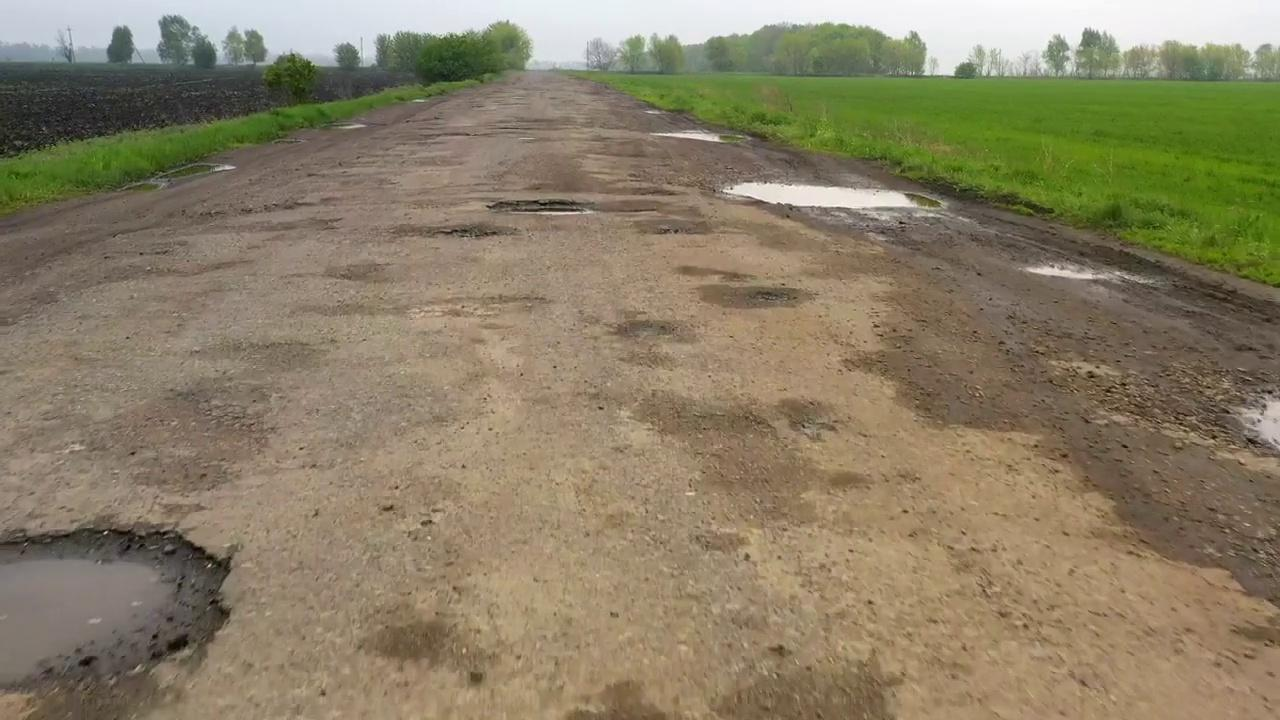bache: (0, 528, 229, 690), (724, 182, 945, 211), (700, 286, 811, 308), (393, 223, 514, 238), (488, 199, 594, 214)
